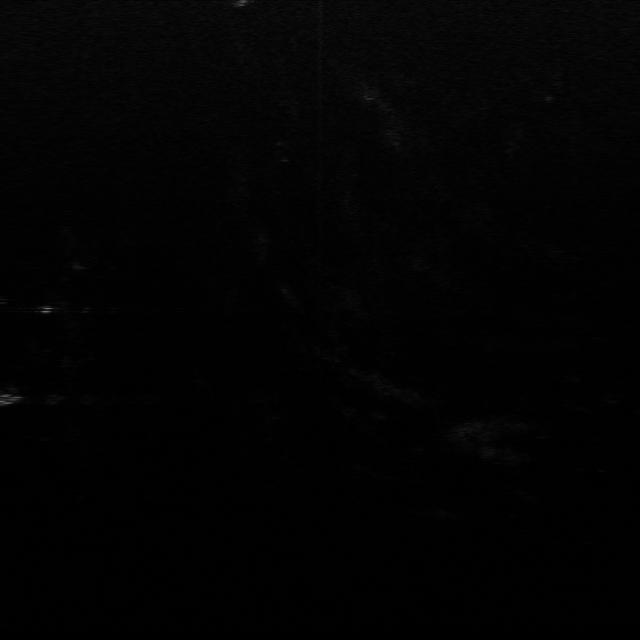rov: (0, 394, 29, 409)
